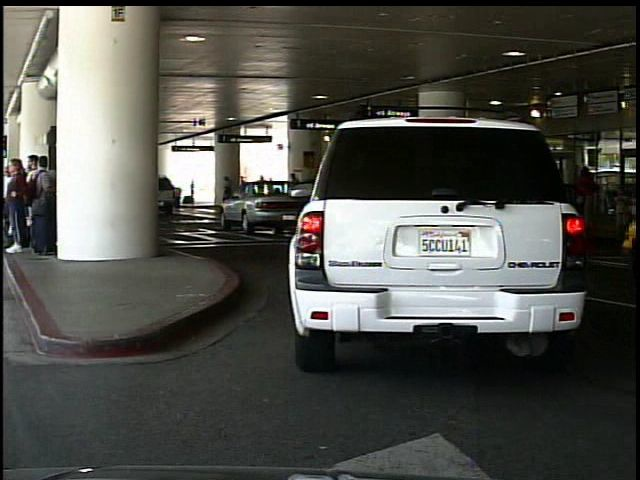person: (573, 160, 604, 246), (223, 172, 235, 197), (189, 178, 197, 205)
